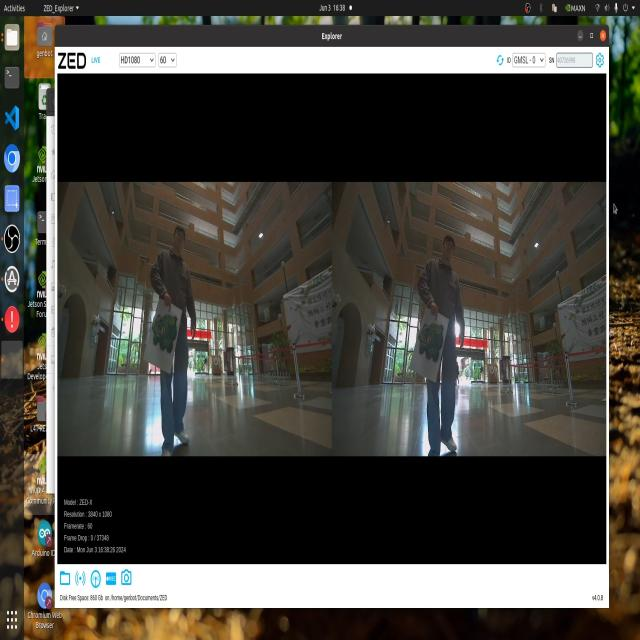green: (415, 313, 450, 365), (153, 308, 189, 357)
